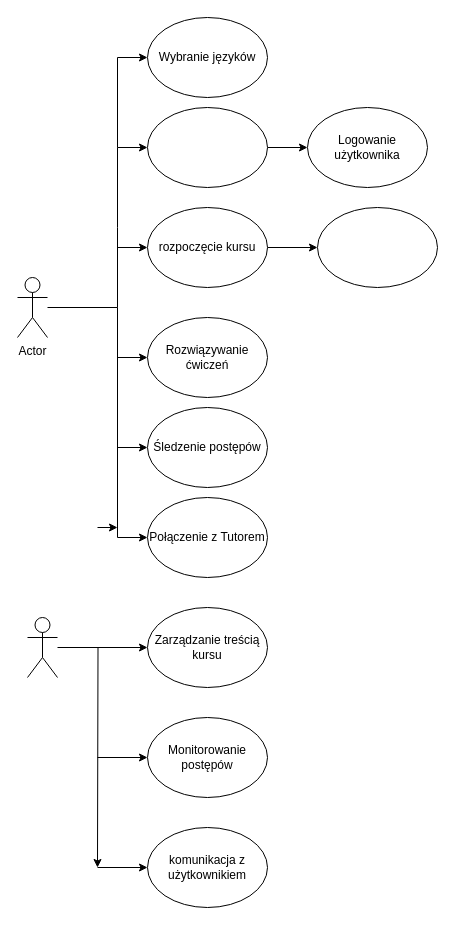
Some shapes in this 455 by 925 pixel diagram are drawn without their labels. Here are the shapes that lost their labels. From the top down, the box of each, then its label:
(146, 106, 268, 188): Rejestracja użytkownika
(316, 206, 438, 288): kontynuowanie kursu
(26, 616, 58, 678): Tutor
